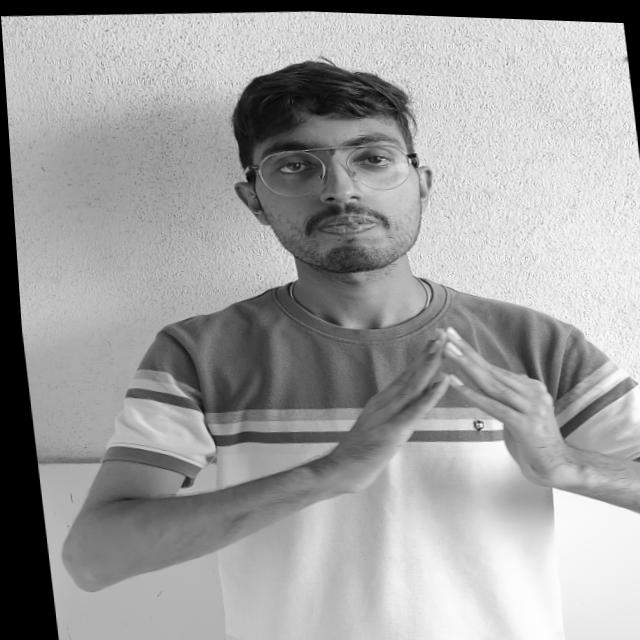Home: (278, 294, 628, 511)
